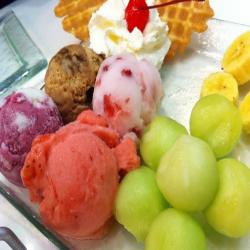chantilly: (84, 1, 173, 72)
icecream: (21, 107, 148, 243), (1, 86, 67, 195), (88, 52, 168, 134), (38, 42, 115, 122)
